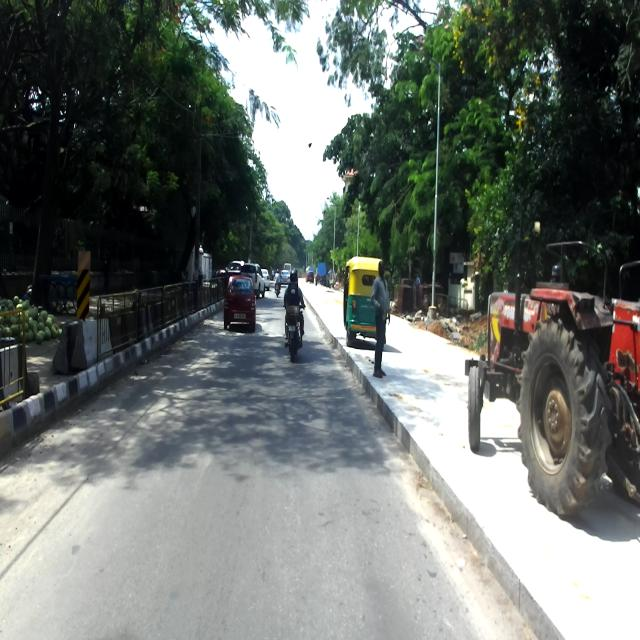auto ahead at: (343, 254, 372, 336)
person ahead at: (374, 264, 391, 376)
truck ahead at: (467, 220, 640, 519)
